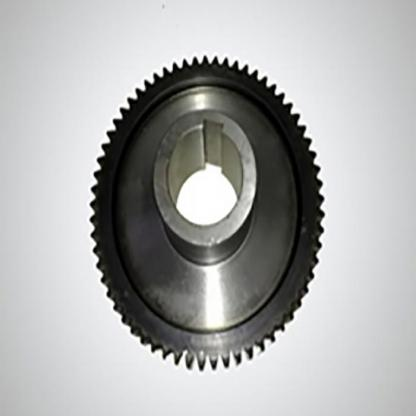FOD: (87, 52, 327, 373)
